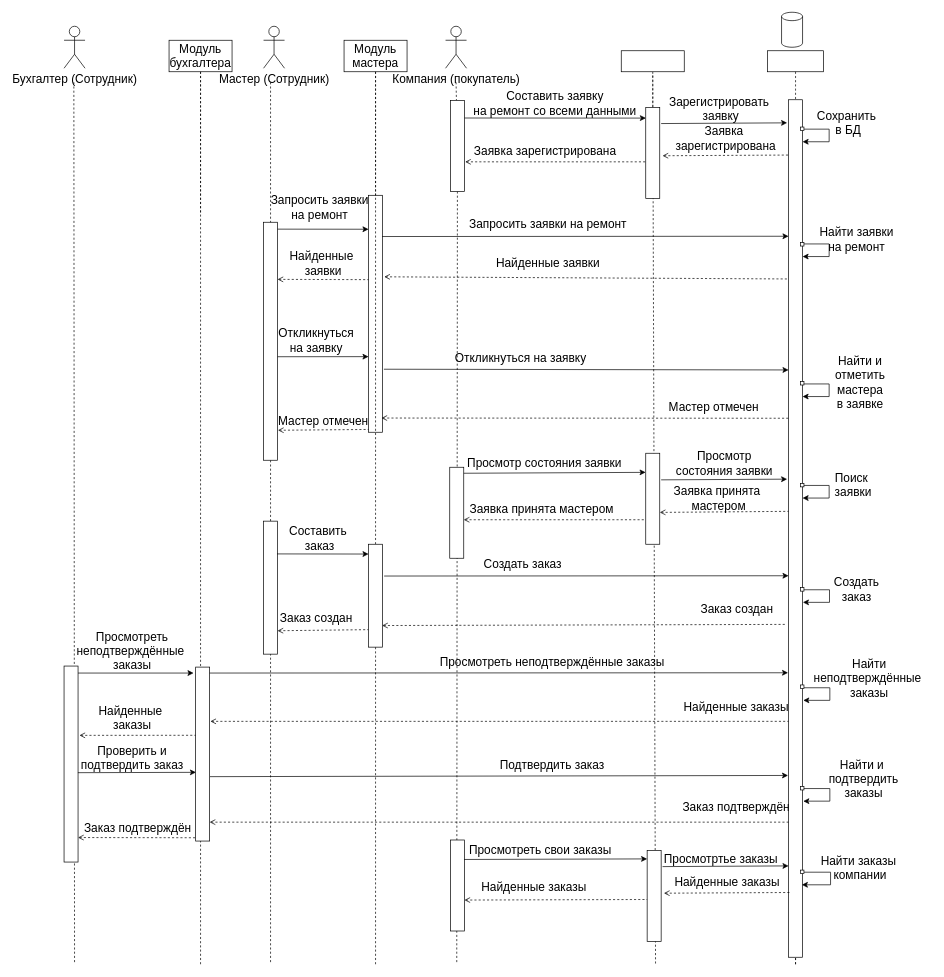
This 944x977 diagram has some shape labels left out. Here are the shapes that lost their labels. From the top down, the centre of each, then its label:
At pixel 652 61: "Сайт".
At pixel 795 61: "БД".
